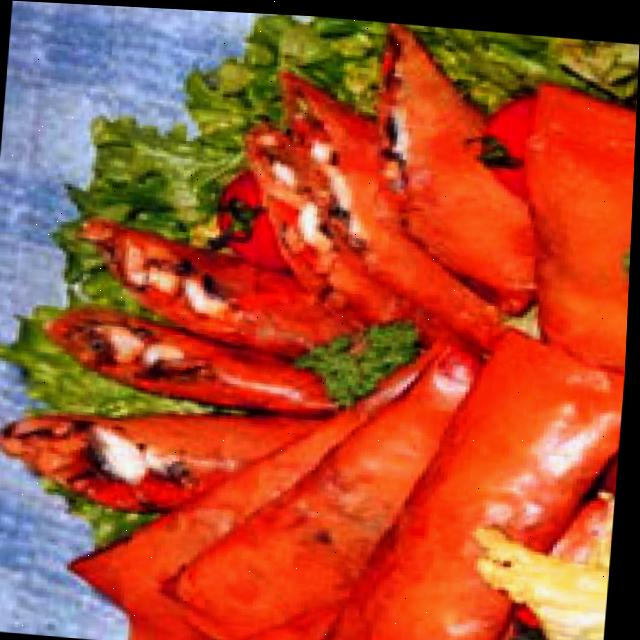鸡蛋料理: (7, 1, 640, 640)
